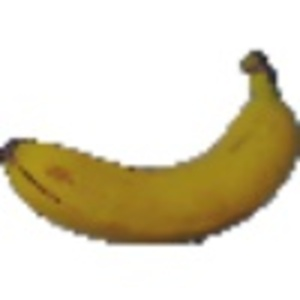banana: (6, 45, 297, 250)
